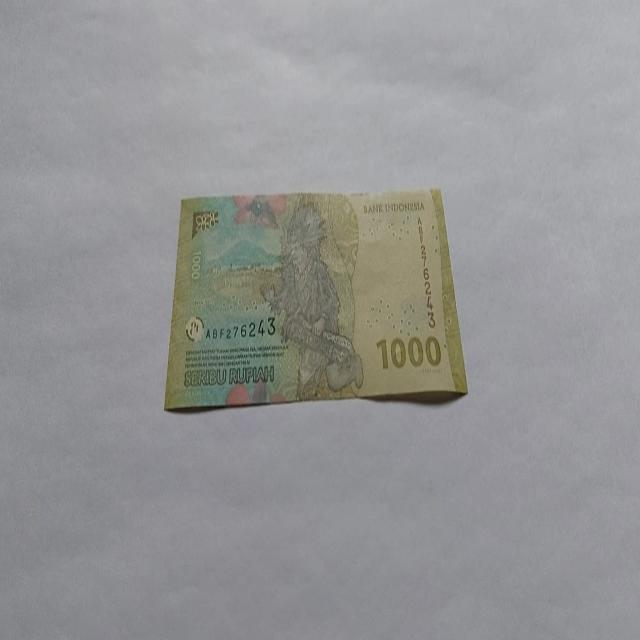seribu rupiah kertas: (163, 186, 468, 412)
